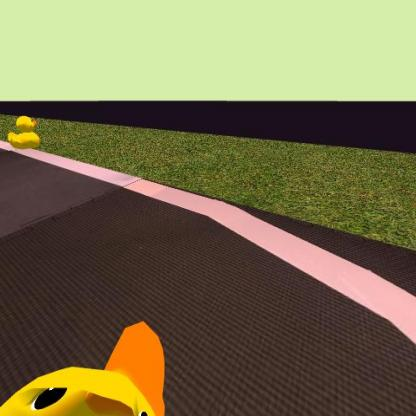Duckie: (0, 319, 166, 416), (7, 114, 46, 152)
